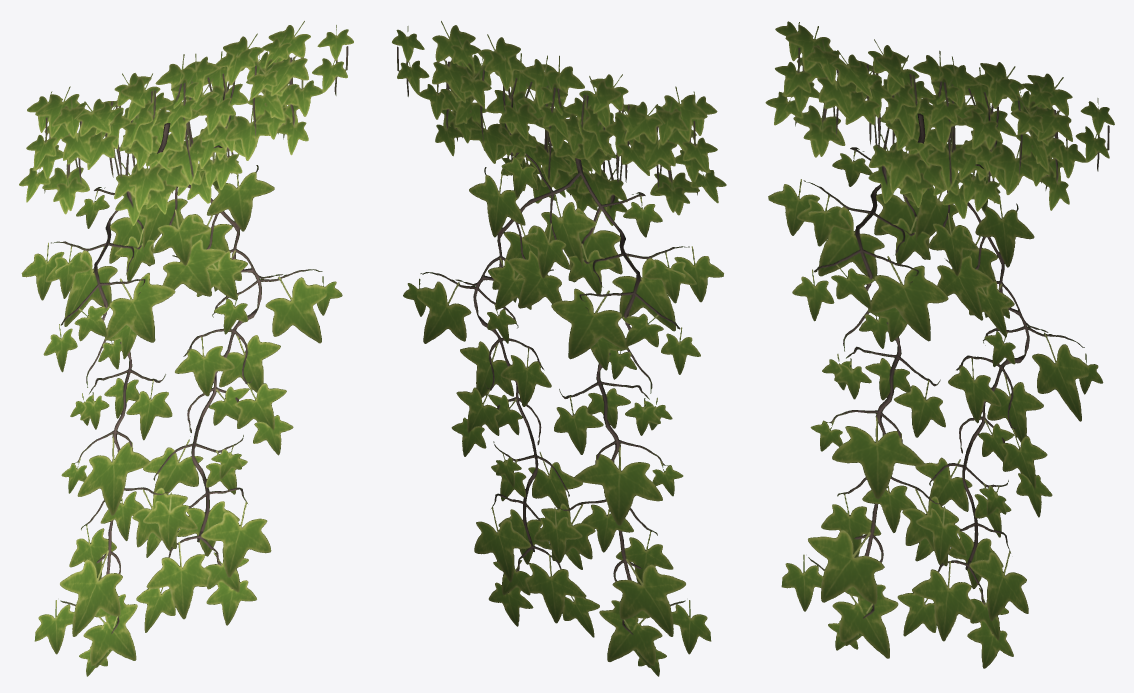
The model's file is SM_ivy_assembly_small.fbx.
The picture shows the model from 3 angles, left to right: view 1: azimuth 30°, elevation 25°; view 2: azimuth 150°, elevation 25°; view 3: azimuth 330°, elevation 25°; orthographic projection. The views are drawn at different scales.
Parts seen in each view (by area): view 1: SM_ivy_assembly_small; view 2: SM_ivy_assembly_small; view 3: SM_ivy_assembly_small.
Boxes of the visible parts, left/top/right/bottom form: SM_ivy_assembly_small: left=19, top=21, right=353, bottom=676; SM_ivy_assembly_small: left=392, top=21, right=726, bottom=676; SM_ivy_assembly_small: left=765, top=21, right=1114, bottom=668.
Bounding box in the file's own units: 42.72 × 74.83 × 2.43.
